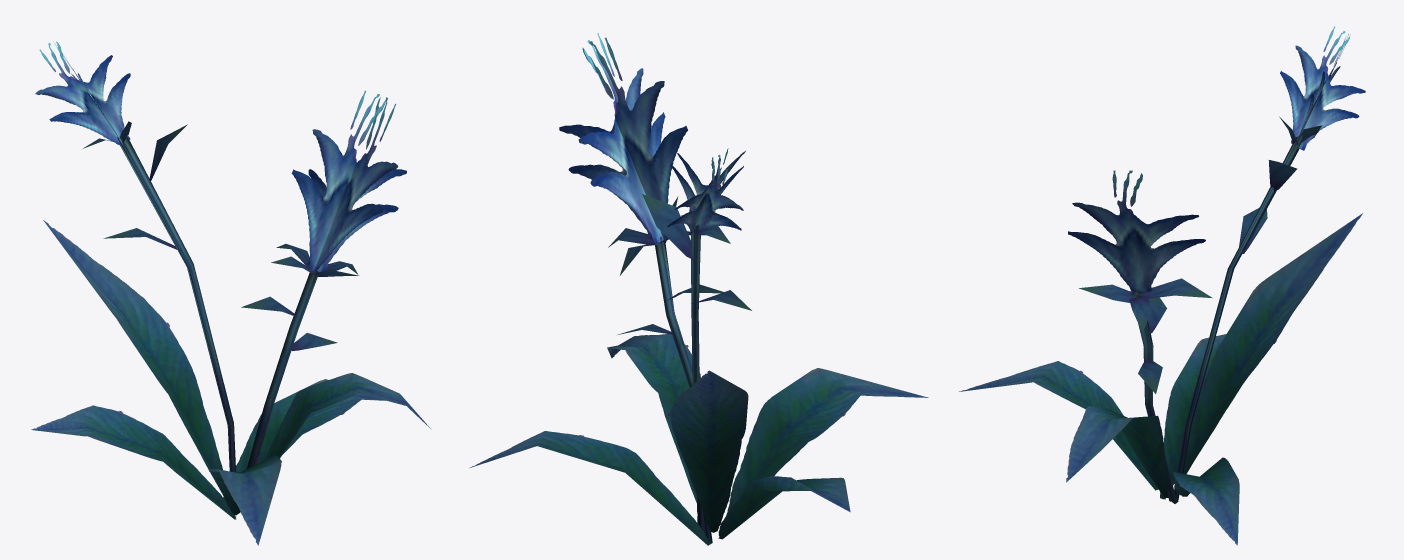
Rendered from wm_灌木蓝色花01.fbx.
3 renders of one model, left to right at view 1: azimuth 30°, elevation 25°; view 2: azimuth 150°, elevation 25°; view 3: azimuth 270°, elevation 25°, orthographic. The views are drawn at different scales.
Parts seen in each view (by area): view 1: wm_灌木蓝色花01; view 2: wm_灌木蓝色花01; view 3: wm_灌木蓝色花01.
Boxes of the visible parts, <box> form: wm_灌木蓝色花01: <box>31,41,431,545</box>; wm_灌木蓝色花01: <box>469,33,928,545</box>; wm_灌木蓝色花01: <box>959,26,1365,545</box>.
Size of the model in its own units: 163 by 200 by 176.
